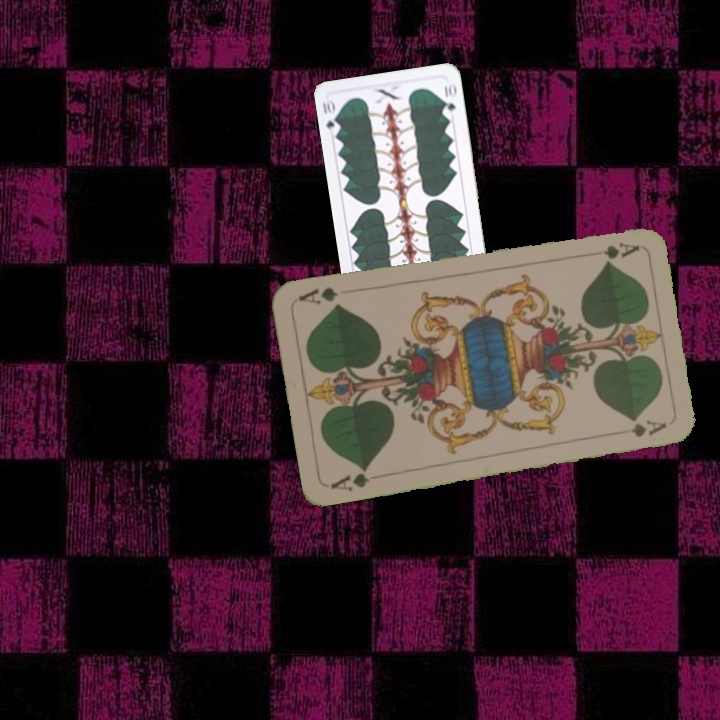G10: (318, 95, 342, 136)
GA: (326, 463, 372, 494), (600, 238, 641, 261)
